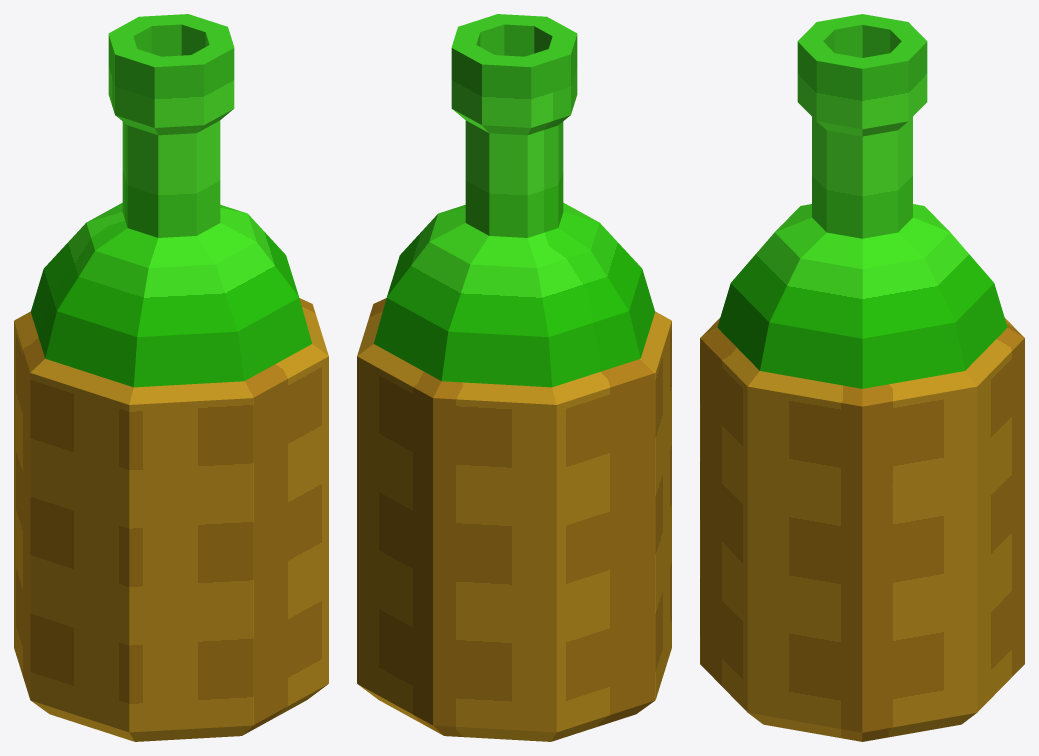
The model's file is bottle_616x05.obj.
3 renders of one model, left to right at view 1: azimuth 30°, elevation 25°; view 2: azimuth 150°, elevation 25°; view 3: azimuth 270°, elevation 25°, orthographic.
Parts seen in each view (by area): view 1: Green_Bottle; view 2: Green_Bottle; view 3: Green_Bottle.
Boxes of the visible parts, x1,y1,x2,y2 form: Green_Bottle: [14, 14, 328, 741]; Green_Bottle: [357, 14, 671, 741]; Green_Bottle: [700, 14, 1024, 741].
Size of the model in its own units: 0.3174 by 0.6918 by 0.3174.
